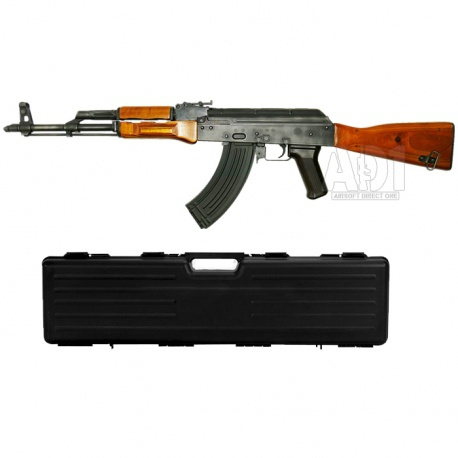ak47: (5, 100, 454, 228)
